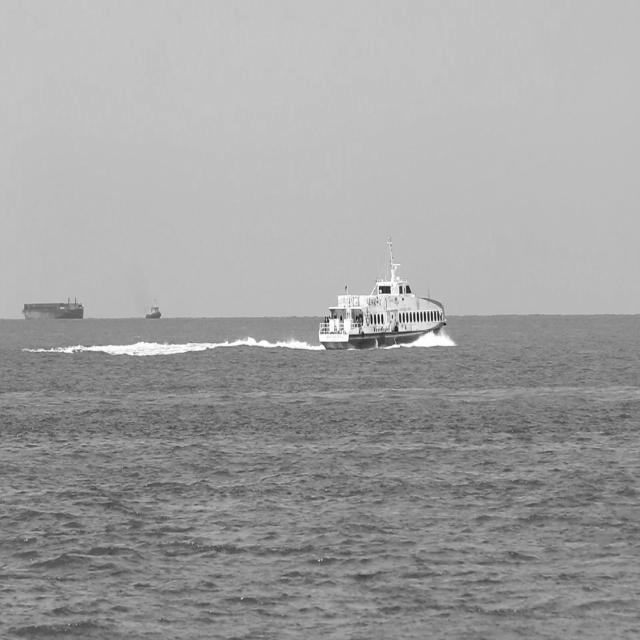ship: (311, 231, 449, 356), (20, 289, 86, 319), (142, 294, 164, 322)
